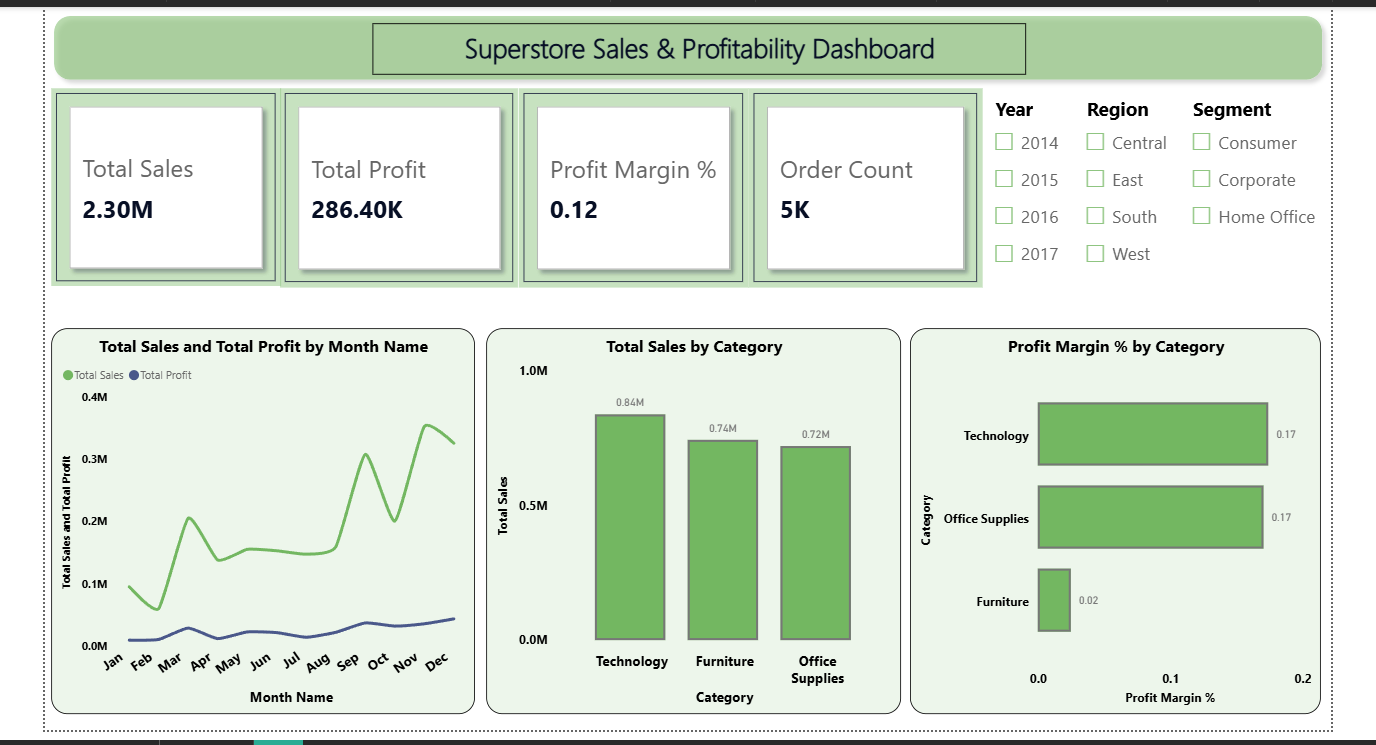

The dashboard page shown, as its layout file describes it:
{"tool":"powerbi","page":{"name":"Page 1","canvas":[1280,720],"ordinal":0},"visuals":[{"type":"cardVisual","fields":{"Data":["DateTable.Total Sales"]},"box":[5.7,81.4,228.6,197.1],"z":0},{"type":"shape","box":[0,0,1280,81.4],"z":1000,"group":"g1"},{"type":"cardVisual","fields":{"Data":["DateTable.Total Profit"]},"box":[234.3,81.4,237.1,198.6],"z":2000},{"type":"cardVisual","fields":{"Data":["DateTable.Profit Margin %"]},"box":[471.4,81.4,228.6,198.6],"z":3000},{"type":"cardVisual","fields":{"Data":["DateTable.Order Count"]},"box":[700,81.4,232.9,198.6],"z":4000},{"type":"lineChart","fields":{"Category":["DateTable.Month Name"],"Y":["DateTable.Total Sales","DateTable.Total Profit"]},"box":[6.2,320,421.2,383.8],"z":5000},{"type":"clusteredColumnChart","fields":{"Category":["Orders.Category"],"Y":["DateTable.Total Sales"]},"box":[438.8,320,412.5,383.8],"z":6000},{"type":"clusteredBarChart","fields":{"Category":["Orders.Category"],"Y":["DateTable.Profit Margin %"]},"box":[861.4,320,408.6,384.3],"z":7000},{"type":"slicer","fields":{"Values":["DateTable.Year"]},"box":[932.9,82.9,91.4,197.1],"z":8000},{"type":"slicer","fields":{"Values":["Orders.Region"]},"box":[1024.3,82.9,105.7,197.1],"z":9000},{"type":"slicer","fields":{"Values":["Orders.Segment"]},"box":[1130,82.9,150,195.7],"z":10000},{"type":"textbox","box":[325.7,15.7,650,51.4],"z":11000,"group":"g1"},{"type":"group","id":"g1","title":"Group 1","box":[0,0,1280,81.4],"z":11001}]}

Visuals, with their boxes in screenshot pixels (x1, y1, x2, y2):
cardVisual - DateTable.Total Sales: [x1=67, y1=84, x2=292, y2=278]
shape: [x1=61, y1=4, x2=1321, y2=84]
cardVisual - DateTable.Total Profit: [x1=292, y1=84, x2=525, y2=279]
cardVisual - DateTable.Profit Margin %: [x1=525, y1=84, x2=750, y2=279]
cardVisual - DateTable.Order Count: [x1=750, y1=84, x2=980, y2=279]
lineChart - DateTable.Month Name x DateTable.Total Sales: [x1=67, y1=319, x2=482, y2=697]
clusteredColumnChart - Orders.Category x DateTable.Total Sales: [x1=493, y1=319, x2=899, y2=697]
clusteredBarChart - Orders.Category x DateTable.Profit Margin %: [x1=909, y1=319, x2=1311, y2=697]
slicer - DateTable.Year: [x1=980, y1=85, x2=1070, y2=279]
slicer - Orders.Region: [x1=1070, y1=85, x2=1174, y2=279]
slicer - Orders.Segment: [x1=1174, y1=85, x2=1321, y2=278]
textbox: [x1=382, y1=19, x2=1022, y2=70]
"Group 1" group: [x1=61, y1=4, x2=1321, y2=84]
